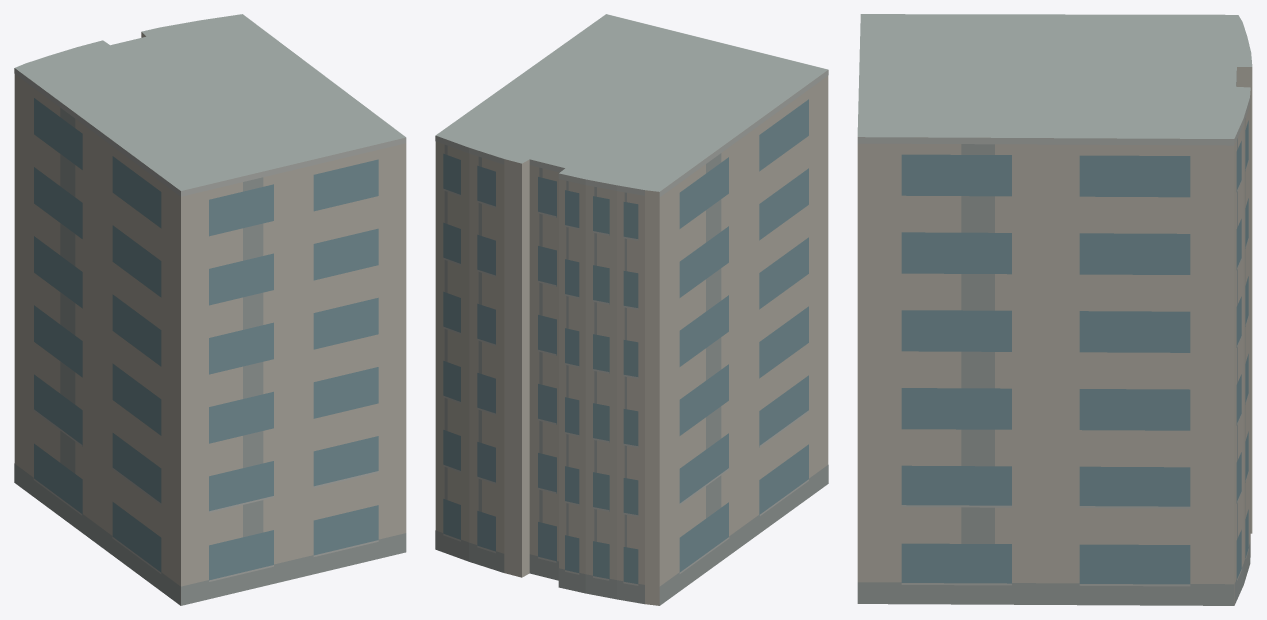
File: survey-upis-32964166.glb
3 renders of one model, left to right at view 1: azimuth 30°, elevation 25°; view 2: azimuth 150°, elevation 25°; view 3: azimuth 270°, elevation 25°, orthographic. The views are drawn at different scales.
Visible parts, largest first — view 1: survey-upis-32964166.tmp; view 2: survey-upis-32964166.tmp; view 3: survey-upis-32964166.tmp.
Part boxes in pixels (x1,y1,x2,y2): survey-upis-32964166.tmp: (14, 14, 406, 605); survey-upis-32964166.tmp: (435, 14, 828, 605); survey-upis-32964166.tmp: (857, 14, 1252, 605).
Bounding box in the file's own units: 10.15 × 17.65 × 13.54.
